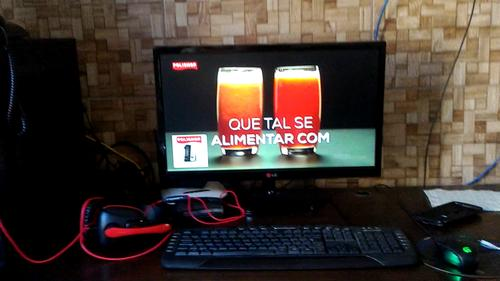Polishop #1: (172, 134, 208, 168)
